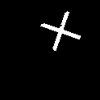single_crochet: (41, 12, 80, 49)
